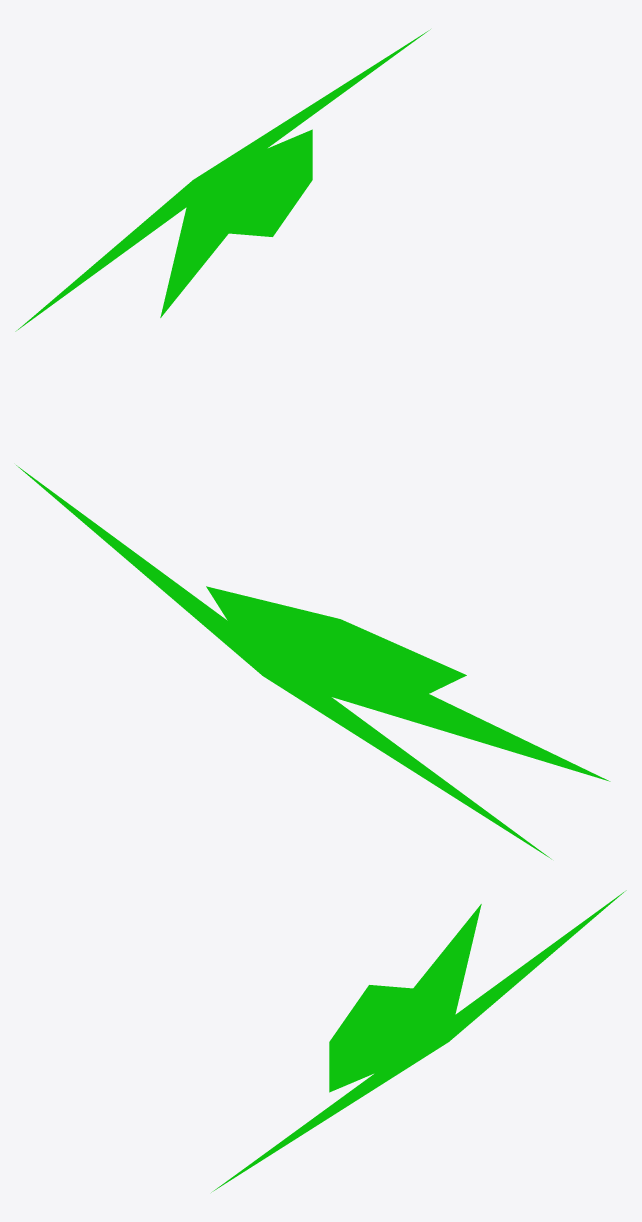
3 views of the same model, one above another, from view 1: azimuth 90°, elevation 25°; view 2: azimuth 150°, elevation 25°; view 3: azimuth 270°, elevation 25° (orthographic). The views are drawn at different scales.
Size of the model in its own units: 189 by 0 by 154.
